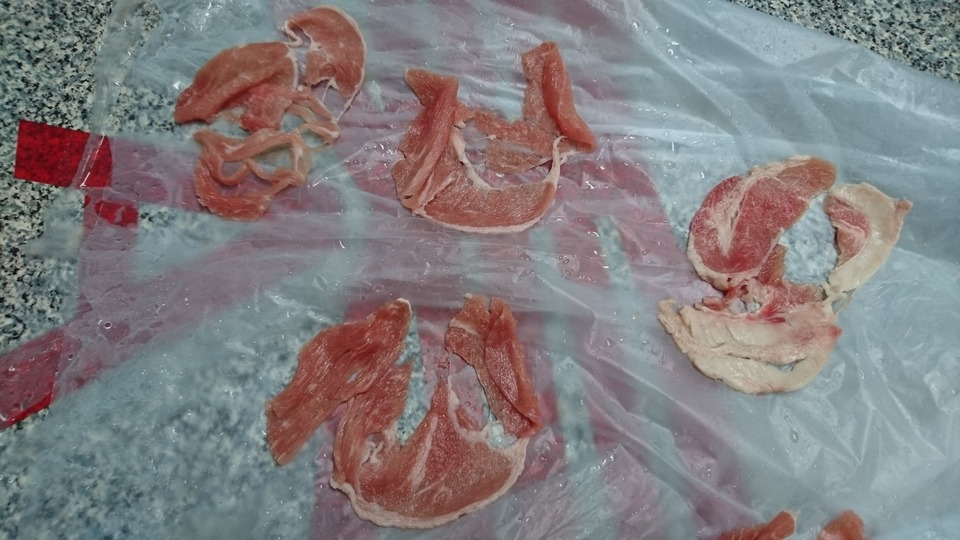restructured meat: (274, 285, 554, 510), (669, 141, 888, 402), (395, 50, 599, 239), (174, 22, 356, 224)
